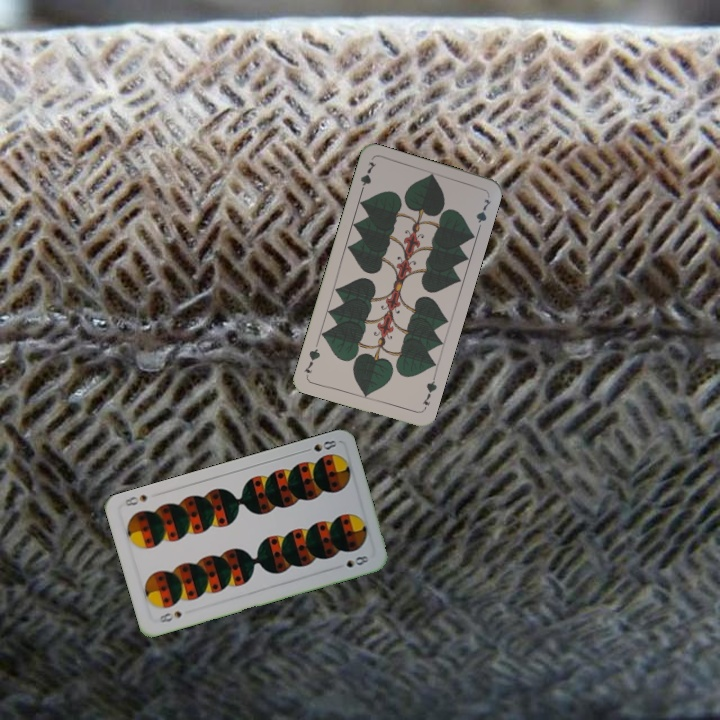G7: (356, 158, 379, 197), (418, 373, 439, 413)
S8: (299, 436, 339, 455), (155, 607, 185, 625)
